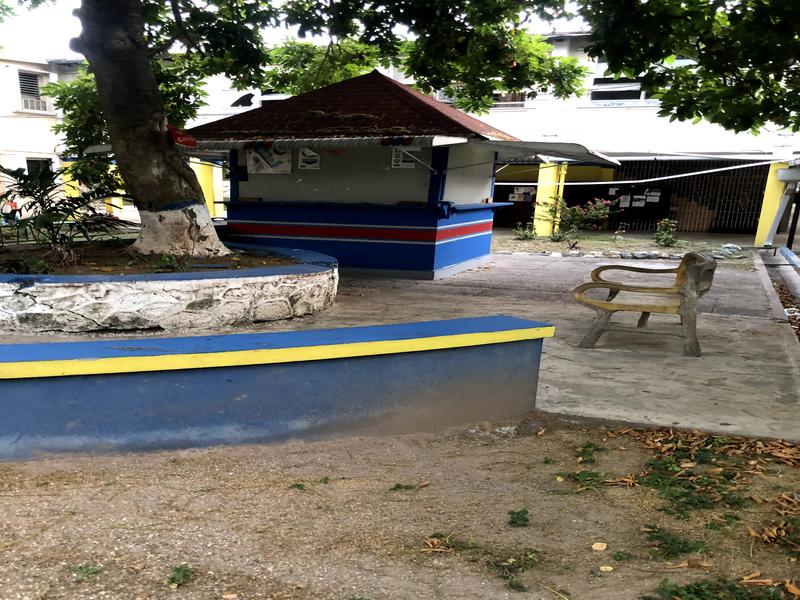18.0050609_-76.7496662_auntyjackie: (172, 55, 626, 289)
